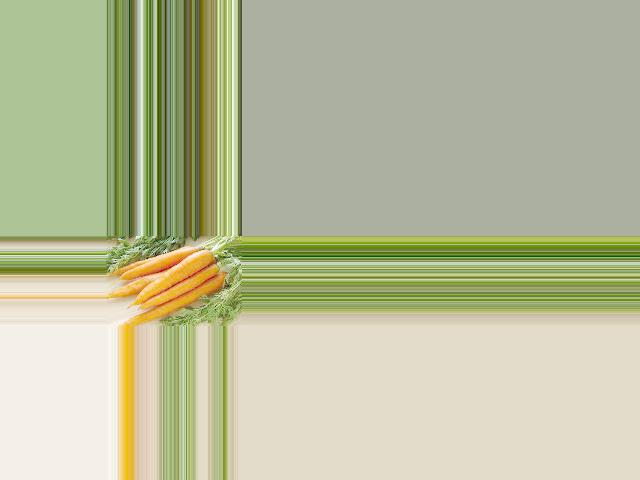carrot: (120, 272, 232, 327)
